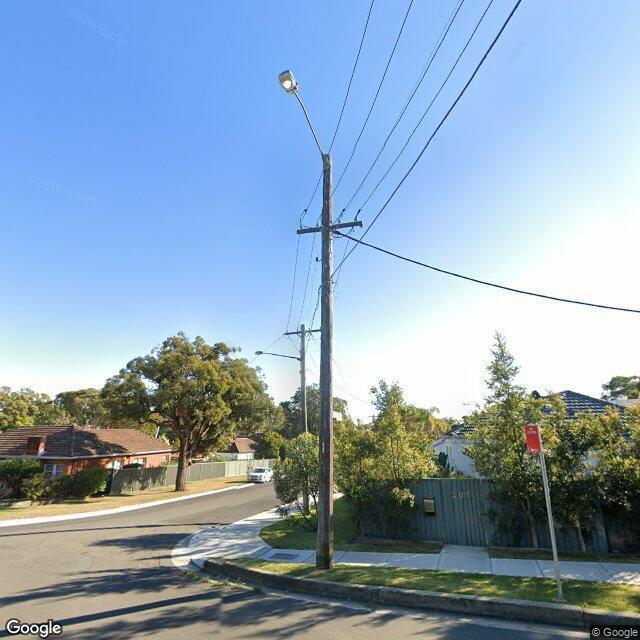crossarm: (296, 220, 364, 236), (282, 329, 320, 335)
streetlight: (277, 68, 330, 170), (255, 351, 301, 360)
timber-pole: (316, 154, 333, 571), (300, 324, 309, 516)
